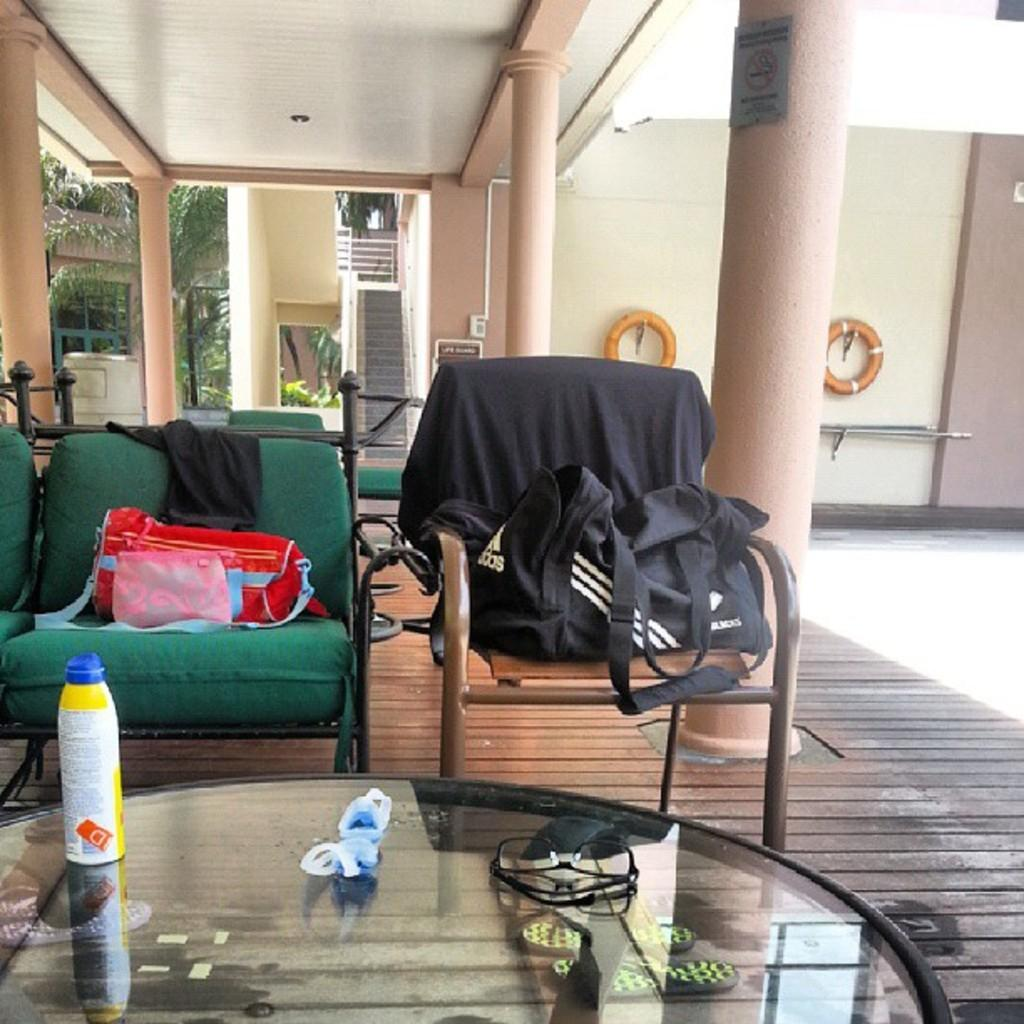Luggage-and-bags: (437, 465, 785, 711), (35, 502, 331, 637)
